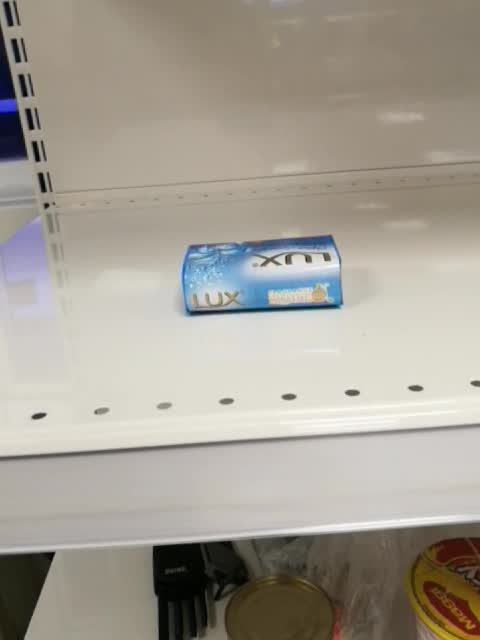soap: (179, 233, 344, 316)
